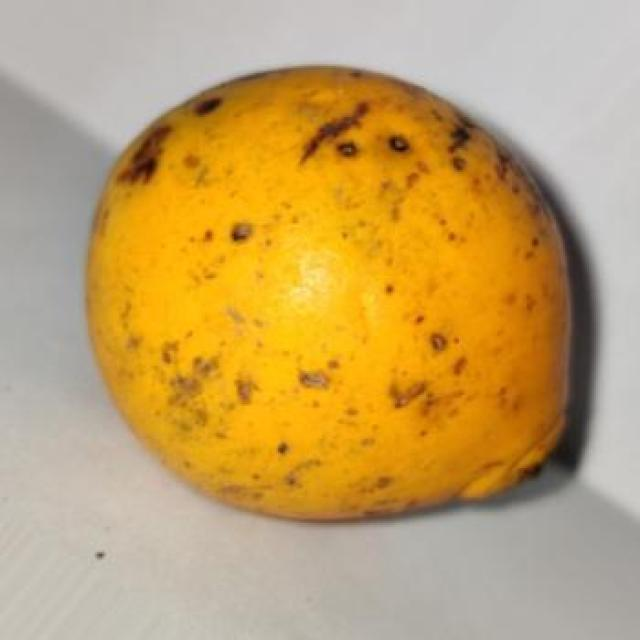good: (84, 66, 574, 527)
